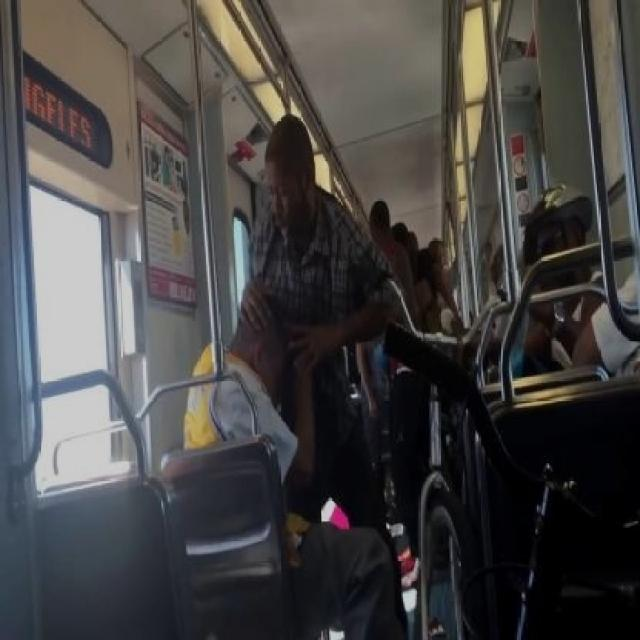fight: (186, 109, 405, 640)
